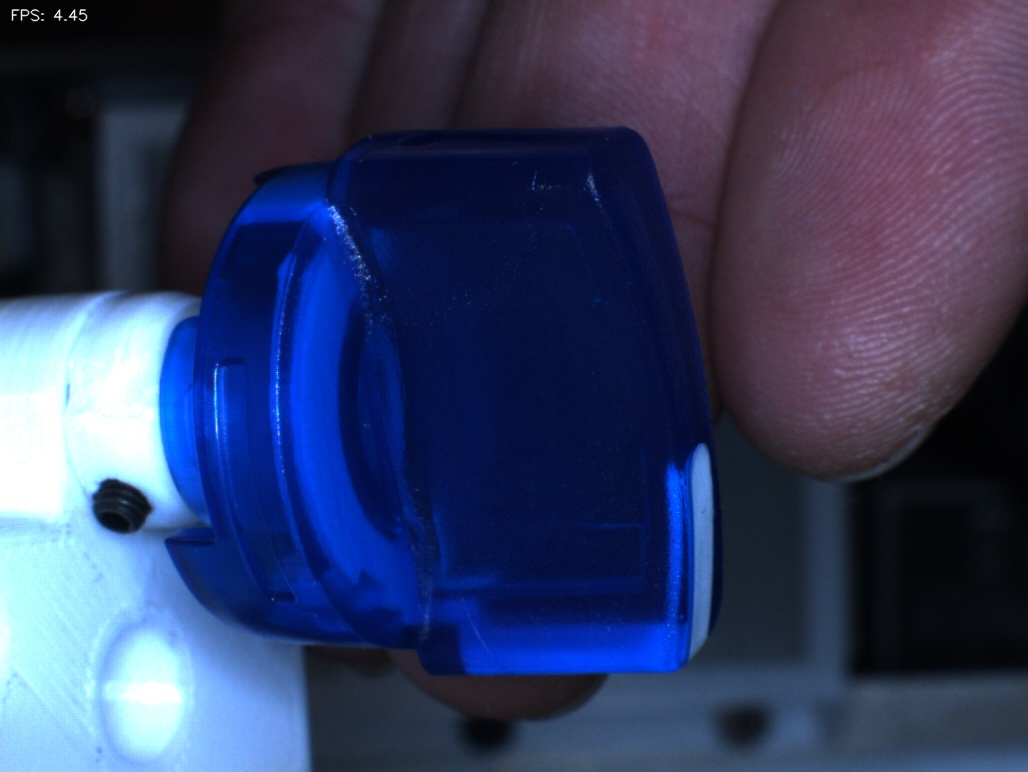Givrage: (446, 572, 521, 674)
